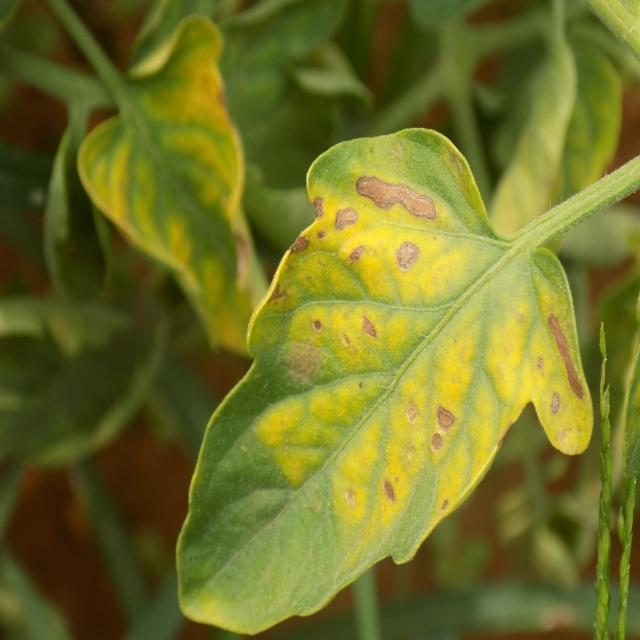tomato_early blight: (176, 128, 584, 640)
